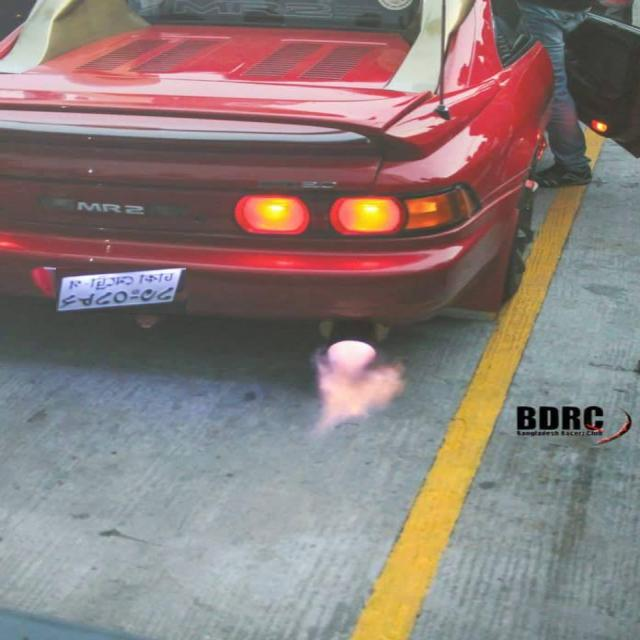numberplate: (56, 267, 186, 313)
